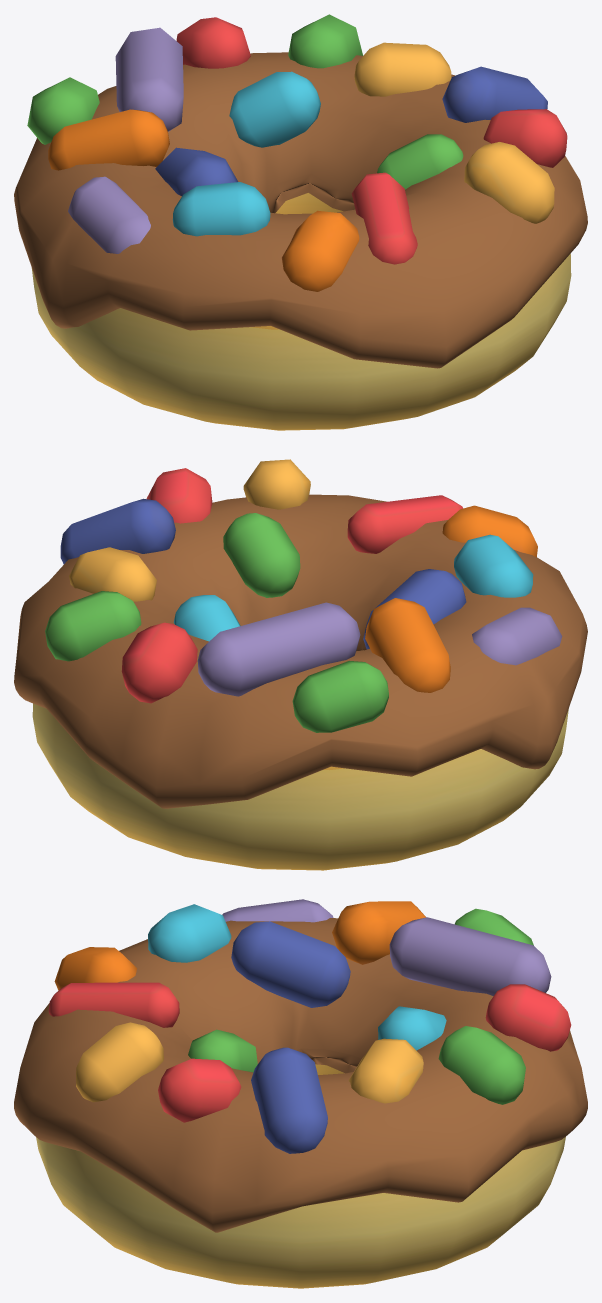
The model's file is donut1.fbx.
The picture shows the model from 3 angles, top to bottom: view 1: azimuth 30°, elevation 25°; view 2: azimuth 150°, elevation 25°; view 3: azimuth 270°, elevation 25°; orthographic projection.
Visible parts, largest first — view 1: donutsos1, donut1, polySurface1853, polySurface1905, polySurface1849, polySurface1907, polySurface1916, polySurface1889, polySurface1870, polySurface1833, polySurface1812, polySurface1864 (+6 smaller); view 2: donutsos1, donut1, polySurface1905, polySurface1853, polySurface1919, polySurface1864, polySurface1838, polySurface1890, polySurface1906, polySurface1833, polySurface1889, polySurface1812 (+6 smaller); view 3: donutsos1, donut1, polySurface1905, polySurface1917, polySurface1864, polySurface1907, polySurface1890, polySurface1833, polySurface1906, polySurface1918, polySurface1853, polySurface1889 (+6 smaller).
Part boxes in pixels (box(x1,y1,x2,y2)): donutsos1: box(14, 52, 587, 368); donut1: box(31, 193, 571, 430); polySurface1853: box(48, 109, 169, 170); polySurface1905: box(115, 27, 183, 131); polySurface1849: box(229, 71, 320, 147); polySurface1907: box(464, 142, 554, 223); polySurface1916: box(282, 210, 359, 291); polySurface1889: box(172, 182, 270, 236); polySurface1870: box(354, 42, 451, 96); polySurface1833: box(351, 172, 417, 264); polySurface1812: box(68, 176, 150, 253); polySurface1864: box(442, 66, 547, 122); donutsos1: box(14, 494, 587, 808); donut1: box(32, 703, 568, 870); polySurface1905: box(197, 602, 360, 696); polySurface1853: box(365, 598, 450, 692); polySurface1919: box(292, 661, 388, 732); polySurface1864: box(60, 498, 175, 564); polySurface1838: box(223, 513, 300, 597); polySurface1890: box(45, 591, 141, 661); polySurface1906: box(121, 622, 197, 703); polySurface1833: box(347, 495, 462, 553); polySurface1889: box(454, 534, 533, 597); polySurface1812: box(472, 607, 562, 665); donutsos1: box(14, 918, 587, 1232); donut1: box(36, 1064, 565, 1288); polySurface1905: box(389, 917, 551, 995); polySurface1917: box(231, 921, 350, 1007); polySurface1864: box(251, 1047, 327, 1153); polySurface1907: box(76, 1022, 163, 1102); polySurface1890: box(438, 1026, 525, 1104); polySurface1833: box(48, 982, 179, 1027); polySurface1906: box(485, 984, 571, 1051); polySurface1918: box(158, 1058, 241, 1122); polySurface1853: box(332, 901, 425, 964); polySurface1889: box(148, 904, 231, 962).
Bounding box in the file's own units: 86.81 × 40.69 × 87.18.
3 materials, 2 textured.
